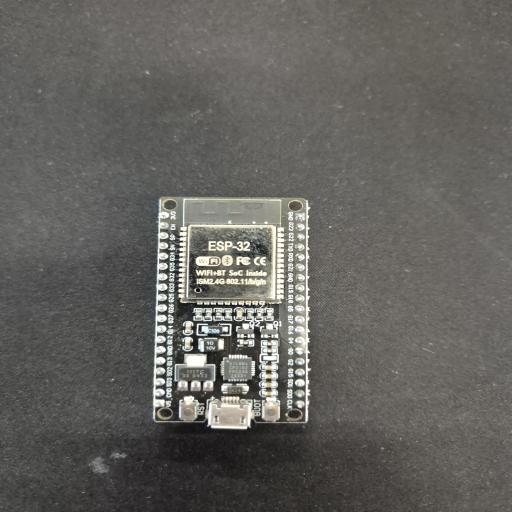esp32-dev: (160, 195, 308, 426)
